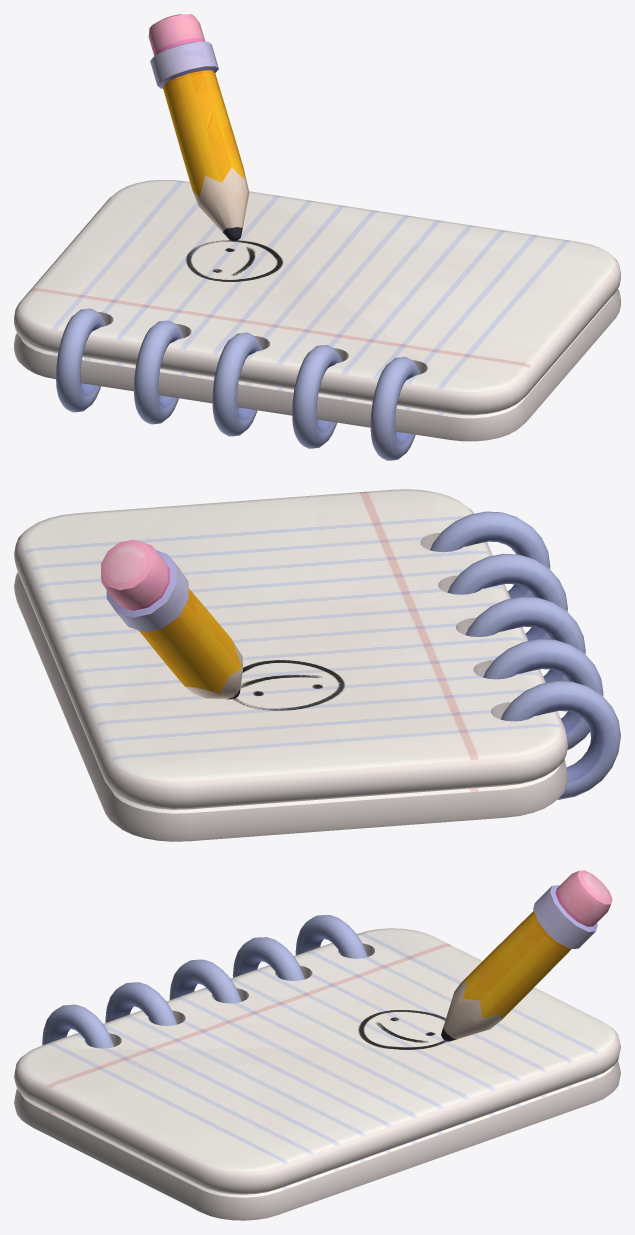
Rendered from NotenbookPen.fbx.
3 views of the same model, one above another, from view 1: azimuth 30°, elevation 25°; view 2: azimuth 150°, elevation 25°; view 3: azimuth 270°, elevation 25° (orthographic). The views are drawn at different scales.
Parts seen in each view (by area): view 1: Rectangle004, Pencil; view 2: Rectangle004, Pencil; view 3: Rectangle004, Pencil.
Boxes of the visible parts, bbox=[...] form: Rectangle004: bbox=[14, 180, 620, 460]; Pencil: bbox=[148, 14, 249, 241]; Rectangle004: bbox=[14, 489, 620, 841]; Pencil: bbox=[101, 539, 242, 699]; Rectangle004: bbox=[14, 915, 620, 1220]; Pencil: bbox=[441, 870, 612, 1041].
Bounding box in the file's own units: 111 × 50.33 × 113.
2 materials, 2 textured.
